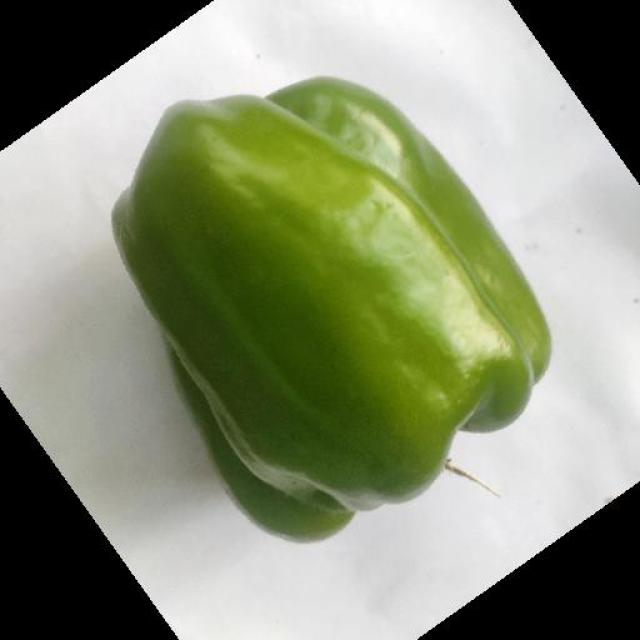Fresh_Capsicum: (119, 89, 542, 503)
